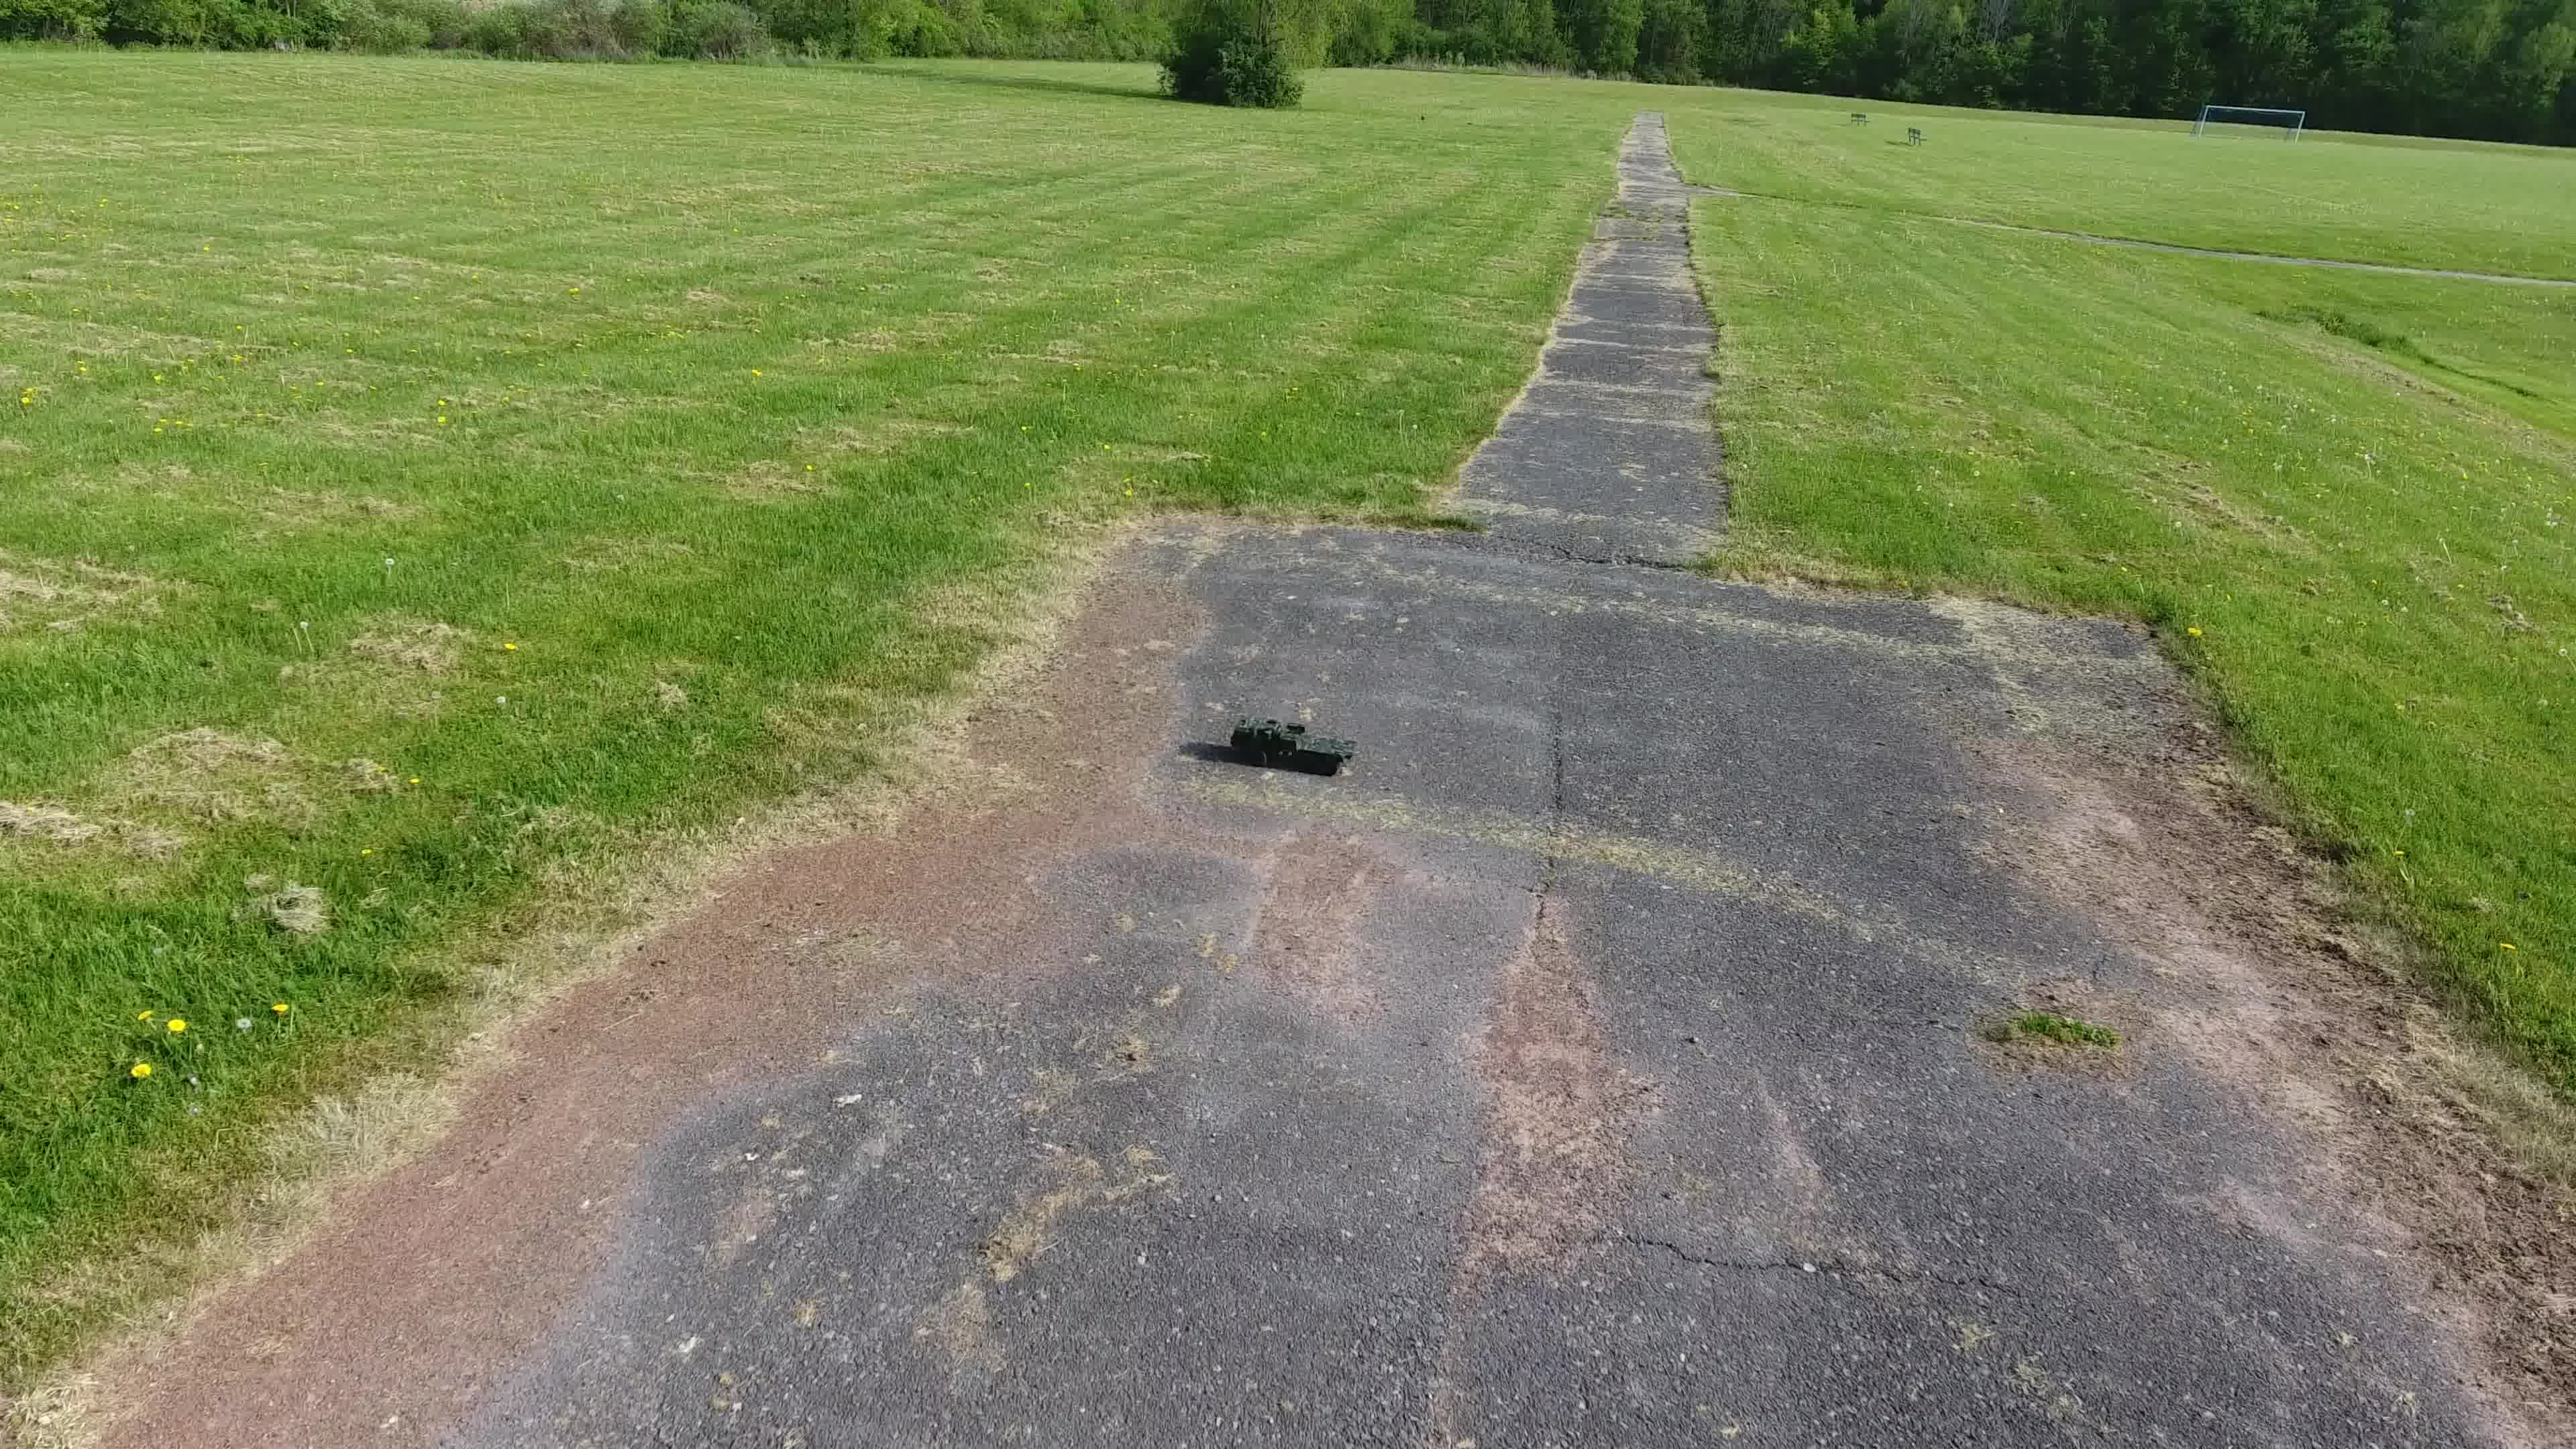transporter9: (1226, 715, 1364, 775)
